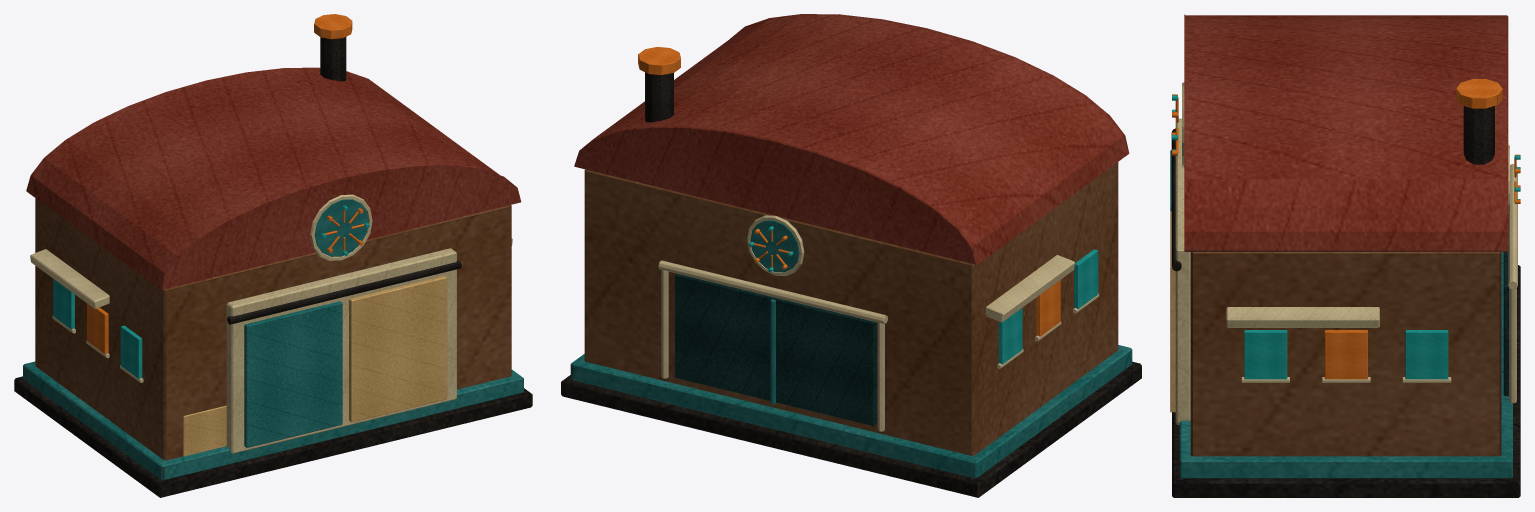
Rendered from catalog-warehouse.glb.
The picture shows the model from 3 angles, left to right: view 1: azimuth 30°, elevation 25°; view 2: azimuth 150°, elevation 25°; view 3: azimuth 270°, elevation 25°; orthographic projection. The views are drawn at different scales.
Visible parts, largest first — view 1: CatalogWarehouseE6; view 2: CatalogWarehouseE6; view 3: CatalogWarehouseE6.
Boxes of the visible parts, box(x1,y1,x2,y2) form: CatalogWarehouseE6: box(14, 14, 532, 497); CatalogWarehouseE6: box(561, 14, 1141, 497); CatalogWarehouseE6: box(1170, 14, 1520, 497).
Bounding box in the file's own units: 5.59 × 4.35 × 3.74.
Materials: 1 (1 with a texture image).
